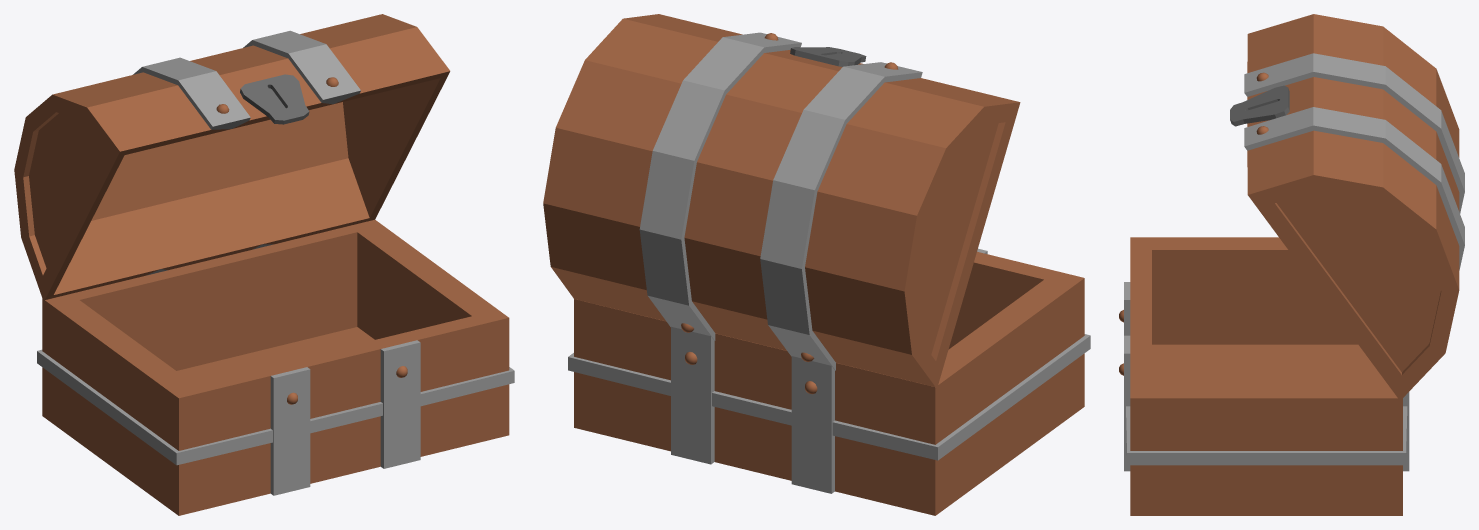
The model's file is chest_inside.glb.
3 views of the same model, side by side, from view 1: azimuth 30°, elevation 25°; view 2: azimuth 150°, elevation 25°; view 3: azimuth 270°, elevation 25° (orthographic). The views are drawn at different scales.
Parts seen in each view (by area): view 1: chest_inside, chest_lid; view 2: chest_lid, chest_inside; view 3: chest_inside, chest_lid.
Boxes of the visible parts, x1,y1,x2,y2 form: chest_inside: (37, 219, 514, 515); chest_lid: (14, 14, 450, 301); chest_lid: (543, 14, 1020, 388); chest_inside: (568, 248, 1090, 515); chest_inside: (1119, 237, 1409, 515); chest_lid: (1230, 14, 1464, 400).
Bounding box in the file's own units: 0.4368 × 0.4274 × 0.3872.
Materials: 1 (1 with a texture image).
